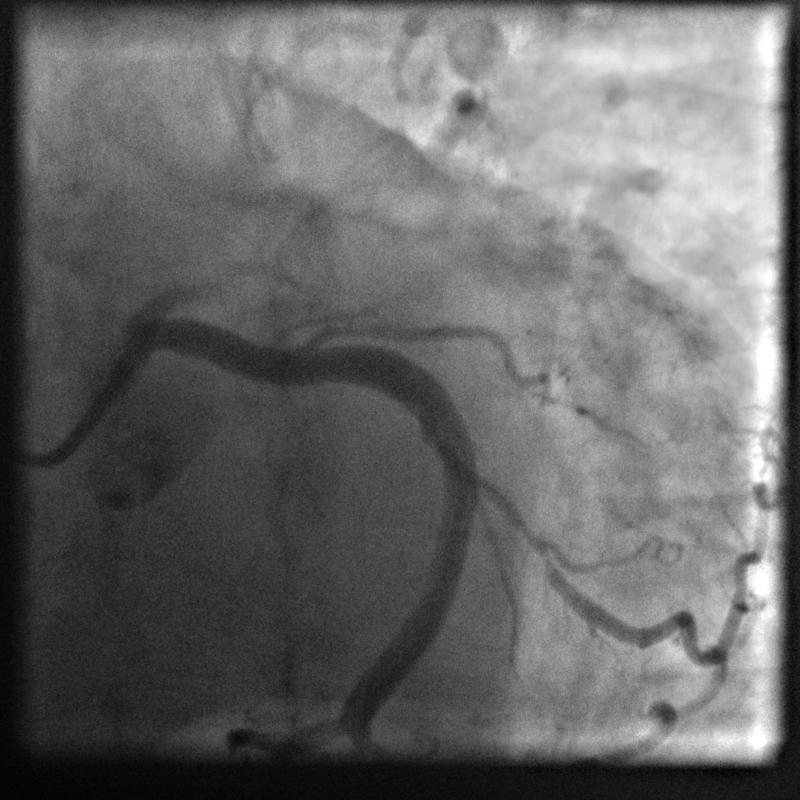Stenosis: (468, 460, 560, 583)
